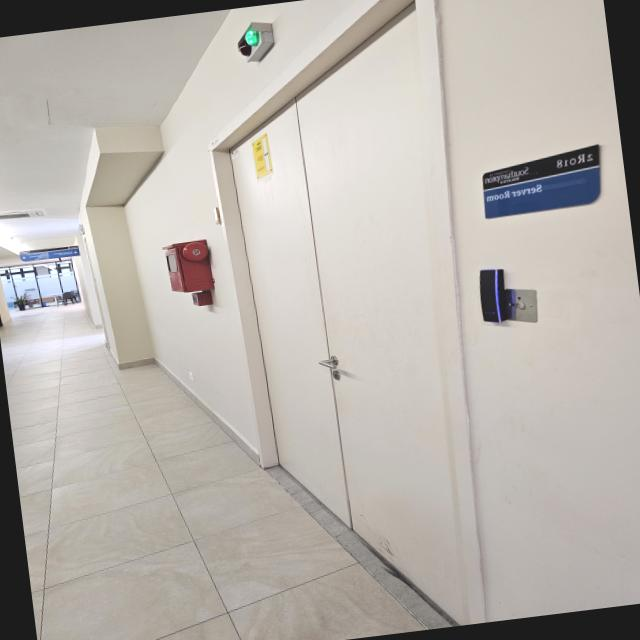footpath: (5, 353, 234, 640)
